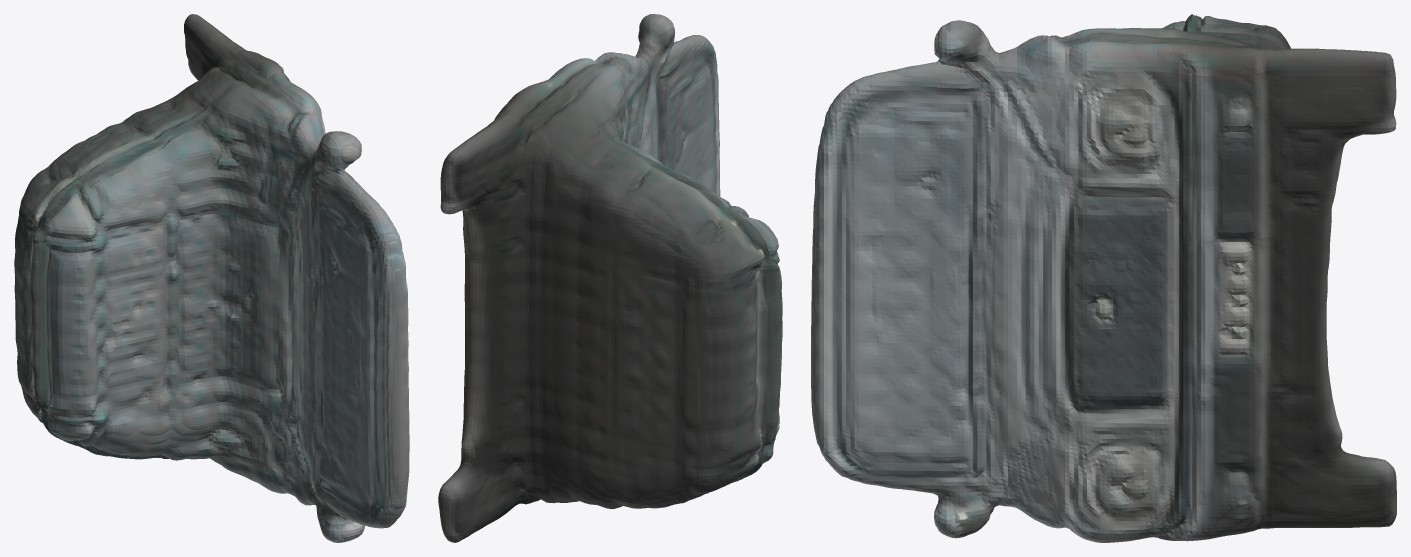
3 views of the same model, side by side, from view 1: azimuth 30°, elevation 25°; view 2: azimuth 150°, elevation 25°; view 3: azimuth 270°, elevation 25° (orthographic). The views are drawn at different scales.
Parts seen in each view (by area): view 1: world; view 2: world; view 3: world.
Boxes of the visible parts, left/top/right/bottom form: world: left=14, top=14, right=409, bottom=542; world: left=438, top=14, right=782, bottom=542; world: left=811, top=14, right=1396, bottom=542.
Size of the model in its own units: 0.6058 by 0.8751 by 0.9122.
